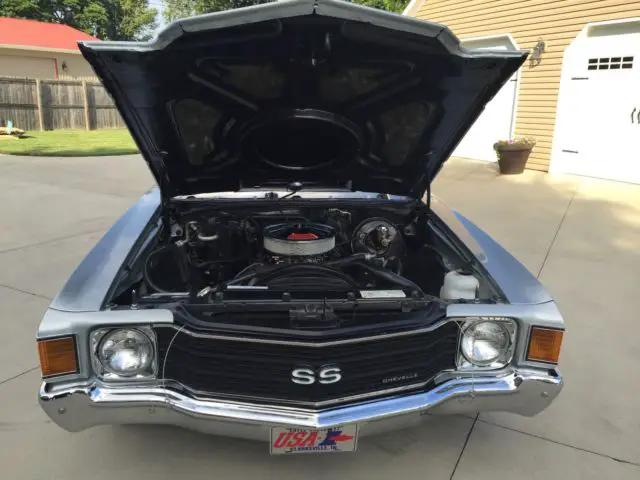chevelle-1972: (36, 0, 565, 454)
